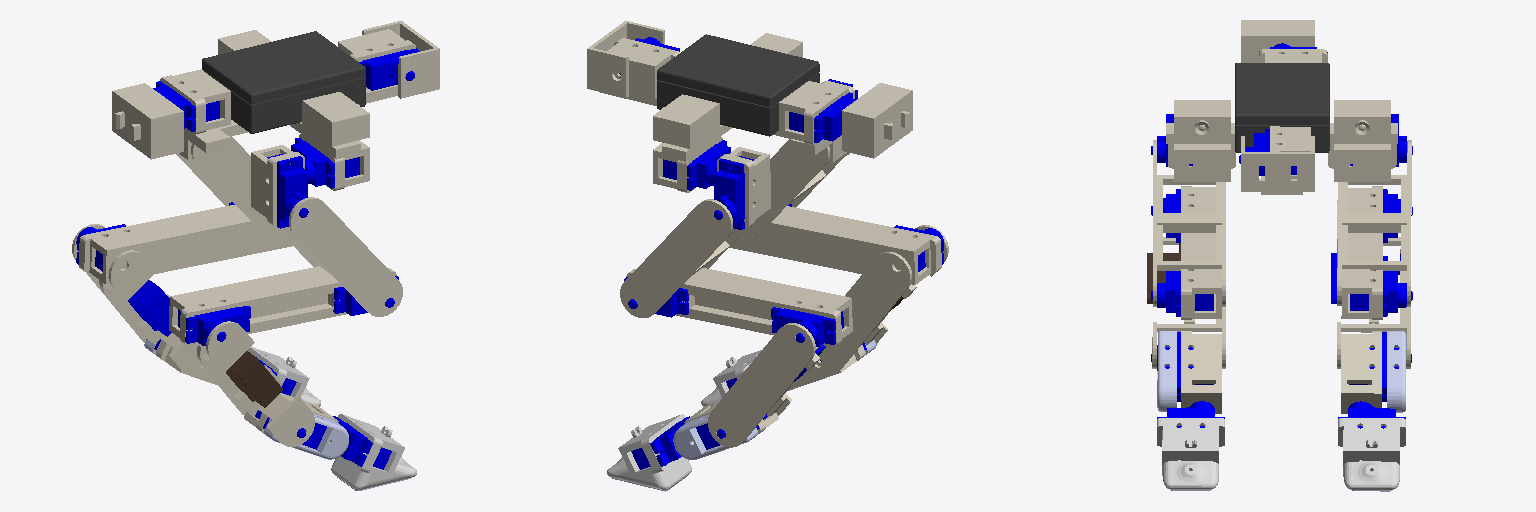
--- Facts derived from the render (not from the file) ---
Views: 3 orthographic renders of the robot side by side, from view 1: azimuth 30°, elevation 25°; view 2: azimuth 150°, elevation 25°; view 3: azimuth 270°, elevation 25°.
Model morphlynx with 42 links and 41 joints (14 continuous, 27 fixed), rooted at base_link, posed every joint at zero.
Links seen in each view (by area): view 1: CONTROL-BOX, L-LINK-ANKLE-TIBIA, R-LINK-ANKLE-TIBIA, R-LINK-HIP-ANKLE, R-LINK-TIBIA-FOOT, REAR-CAPLING, L-LINK-TIBIA-FOOT, L-LINK-HIP-ANKLE, R-FOOT, CAMERA-R, FRONT-CAPLING, SC-REAR-CAPLING (+16 smaller); view 2: CONTROL-BOX, R-LINK-ANKLE-TIBIA, L-LINK-ANKLE-TIBIA, L-LINK-HIP-ANKLE, L-LINK-TIBIA-FOOT, R-LINK-TIBIA-FOOT, REAR-CAPLING, R-LINK-HIP-ANKLE, L-FOOT, FRONT-CAPLING, CAMERA-L, SC-REAR-CAPLING (+14 smaller); view 3: CONTROL-BOX, L-FOOT, R-FOOT, L-LINK-HIP-ANKLE, R-LINK-HIP-ANKLE, R-LINK-ANKLE-TIBIA, L-LINK-ANKLE-TIBIA, L-SC2-FOOT-PITCH, R-SC2-FOOT-PITCH, FRONT-CAPLING, L-SC-HIP-ROLL, R-SC-HIP-ROLL (+15 smaller).
Boxes of the visible links, box(x1,y1,x2,y2) form: CONTROL-BOX: box(202, 31, 365, 133); L-LINK-ANKLE-TIBIA: box(79, 205, 292, 283); R-LINK-ANKLE-TIBIA: box(169, 266, 396, 345); R-LINK-HIP-ANKLE: box(275, 197, 402, 316); R-LINK-TIBIA-FOOT: box(178, 321, 314, 446); REAR-CAPLING: box(112, 83, 183, 159); L-LINK-TIBIA-FOOT: box(72, 224, 206, 375); L-LINK-HIP-ANKLE: box(176, 136, 290, 245); R-FOOT: box(331, 414, 416, 489); CAMERA-R: box(302, 92, 369, 146); FRONT-CAPLING: box(362, 21, 439, 98); SC-REAR-CAPLING: box(160, 69, 230, 134); CONTROL-BOX: box(657, 34, 819, 136); R-LINK-ANKLE-TIBIA: box(729, 206, 941, 284); L-LINK-ANKLE-TIBIA: box(626, 268, 852, 346); L-LINK-HIP-ANKLE: box(620, 199, 745, 317); L-LINK-TIBIA-FOOT: box(708, 323, 837, 447); R-LINK-TIBIA-FOOT: box(811, 225, 948, 375); REAR-CAPLING: box(842, 83, 912, 158); R-LINK-HIP-ANKLE: box(732, 139, 844, 246); L-FOOT: box(607, 414, 691, 489); FRONT-CAPLING: box(587, 21, 664, 97); CAMERA-L: box(653, 94, 719, 148); SC-REAR-CAPLING: box(779, 81, 848, 145); CONTROL-BOX: box(1235, 63, 1329, 152); L-FOOT: box(1338, 418, 1405, 489); R-FOOT: box(1157, 418, 1224, 489); L-LINK-HIP-ANKLE: box(1337, 140, 1411, 306); R-LINK-HIP-ANKLE: box(1153, 140, 1225, 306); R-LINK-ANKLE-TIBIA: box(1181, 186, 1221, 319); L-LINK-ANKLE-TIBIA: box(1341, 186, 1382, 319); L-SC2-FOOT-PITCH: box(1341, 331, 1381, 413); R-SC2-FOOT-PITCH: box(1181, 331, 1221, 413); FRONT-CAPLING: box(1241, 136, 1314, 191); L-SC-HIP-ROLL: box(1328, 144, 1396, 181); R-SC-HIP-ROLL: box(1168, 144, 1235, 181).
Size in the robot's own frame: 0.1541 by 0.1265 by 0.1939 metres.
42 mesh visuals loaded from 42 distinct referenced files (42 OBJ).

URDF robot description (morphlynx):
<?xml version="1.0" encoding="utf-8"?>
<!-- This URDF was automatically created by SolidWorks to URDF Exporter! Originally created by Stephen Brawner ([email redacted]) 
     Commit Version: 1.6.0-1-g15f4949  Build Version: 1.6.7594.29634
     For more information, please see http://wiki.ros.org/sw_urdf_exporter -->
<robot
  name="morphlynx">
  <link
    name="base_link">
    <inertial>
      <origin
        xyz="0.000276598725650778 -0.000310224911284039 0.00148418621995441"
        rpy="0 0 0" />
      <mass
        value="0.0191012536604614" />
      <inertia
        ixx="8.08993467976212E-06"
        ixy="4.57728253329319E-09"
        ixz="-1.21803359504819E-08"
        iyy="1.71771116325382E-05"
        iyz="3.35403185901994E-10"
        izz="2.51810305583357E-05" />
    </inertial>
    <visual>
      <origin
        xyz="0 0 0"
        rpy="0 0 0" />
      <geometry>
        <mesh
          filename="meshes/base_link.obj" />
      </geometry>
      <material
        name="">
        <color
          rgba="0.843137254901961 0.815686274509804 0.752941176470588 1" />
      </material>
    </visual>
    <collision>
      <origin
        xyz="0 0 0"
        rpy="0 0 0" />
      <geometry>
        <mesh
          filename="meshes/base_link.obj" />
      </geometry>
    </collision>
  </link>
  <link
    name="SC-FRONT-CAPLING">
    <inertial>
      <origin
        xyz="-4.62149394982042E-05 1.24145034530176E-11 0.00584718627496306"
        rpy="0 0 0" />
      <mass
        value="0.00388168562397068" />
      <inertia
        ixx="3.09363338665308E-07"
        ixy="-1.57576096613376E-16"
        ixz="-1.22062502891151E-09"
        iyy="5.16127047137718E-07"
        iyz="-6.18283292074338E-17"
        izz="4.87639162474153E-07" />
    </inertial>
    <visual>
      <origin
        xyz="0 0 0"
        rpy="0 0 0" />
      <geometry>
        <mesh
          filename="meshes/SC-FRONT-CAPLING.obj" />
      </geometry>
      <material
        name="">
        <color
          rgba="0.843137254901961 0.815686274509804 0.752941176470588 1" />
      </material>
    </visual>
    <collision>
      <origin
        xyz="0 0 0"
        rpy="0 0 0" />
      <geometry>
        <mesh
          filename="meshes/SC-FRONT-CAPLING.obj" />
      </geometry>
    </collision>
  </link>
  <joint
    name="SC-FRONT-CAPLING"
    type="fixed">
    <origin
      xyz="0.0473016965914241 0.0101948709329004 0.0122706259703034"
      rpy="1.57079632893312 0 0" />
    <parent
      link="base_link" />
    <child
      link="SC-FRONT-CAPLING" />
    <axis
      xyz="0 0 0" />
  </joint>
  <link
    name="SERVO-FRONT-CAPLING-PITCH">
    <inertial>
      <origin
        xyz="-0.000384508499174051 0.0126027787718828 1.09534353809337E-10"
        rpy="0 0 0" />
      <mass
        value="0.00691519223665197" />
      <inertia
        ixx="4.42030047813646E-07"
        ixy="3.31941458815829E-08"
        ixz="-9.76955634209418E-14"
        iyy="4.05343652024244E-07"
        iyz="-6.61707472782017E-15"
        izz="6.84998310264265E-07" />
    </inertial>
    <visual>
      <origin
        xyz="0 0 0"
        rpy="0 0 0" />
      <geometry>
        <mesh
          filename="meshes/SERVO-FRONT-CAPLING-PITCH.obj" />
      </geometry>
      <material
        name="">
        <color
          rgba="0 0 1 1" />
      </material>
    </visual>
    <collision>
      <origin
        xyz="0 0 0"
        rpy="0 0 0" />
      <geometry>
        <mesh
          filename="meshes/SERVO-FRONT-CAPLING-PITCH.obj" />
      </geometry>
    </collision>
  </link>
  <joint
    name="SERVO-FRONT-CAPLING-PITCH"
    type="fixed">
    <origin
      xyz="0 0 0.000999999999999342"
      rpy="1.57079632893312 0 -3.14159265284031" />
    <parent
      link="SC-FRONT-CAPLING" />
    <child
      link="SERVO-FRONT-CAPLING-PITCH" />
    <axis
      xyz="0 0 0" />
  </joint>
  <link
    name="FRONT-CAPLING">
    <inertial>
      <origin
        xyz="0.00932469362706763 -0.0114999999999999 -5.34711164235091E-14"
        rpy="0 0 0" />
      <mass
        value="0.00270228717508013" />
      <inertia
        ixx="6.13949611396249E-07"
        ixy="-1.94829705237611E-22"
        ixz="-4.53642987309235E-23"
        iyy="2.03802701162908E-07"
        iyz="-1.77107123965846E-22"
        izz="6.27041981381177E-07" />
    </inertial>
    <visual>
      <origin
        xyz="0 0 0"
        rpy="0 0 0" />
      <geometry>
        <mesh
          filename="meshes/FRONT-CAPLING.obj" />
      </geometry>
      <material
        name="">
        <color
          rgba="0.843137254901961 0.815686274509804 0.752941176470588 1" />
      </material>
    </visual>
    <collision>
      <origin
        xyz="0 0 0"
        rpy="0 0 0" />
      <geometry>
        <mesh
          filename="meshes/FRONT-CAPLING.obj" />
      </geometry>
    </collision>
  </link>
  <joint
    name="CAPLING-F-PITCH"
    type="continuous">
    <origin
      xyz="-0.00525000000000003 0 0"
      rpy="0 0.00182717944915082 -3.14159265358979" />
    <parent
      link="SERVO-FRONT-CAPLING-PITCH" />
    <child
      link="FRONT-CAPLING" />
    <axis
      xyz="0 1 0" />
    <limit
      lower="-6.28"
      upper="6.28"
      effort="80"
      velocity="15" />
  </joint>
  <link
    name="SC-REAR-CAPLING">
    <inertial>
      <origin
        xyz="-4.62080969305736E-05 -5.34502997417974E-14 0.00584718632905018"
        rpy="0 0 0" />
      <mass
        value="0.00388168562397068" />
      <inertia
        ixx="3.09363335808726E-07"
        ixy="6.85008944770476E-25"
        ixz="-1.22041640500412E-09"
        iyy="5.16127047137719E-07"
        iyz="-8.91287110025887E-23"
        izz="4.87639165330736E-07" />
    </inertial>
    <visual>
      <origin
        xyz="0 0 0"
        rpy="0 0 0" />
      <geometry>
        <mesh
          filename="meshes/SC-REAR-CAPLING.obj" />
      </geometry>
      <material
        name="">
        <color
          rgba="0.843137254901961 0.815686274509804 0.752941176470588 1" />
      </material>
    </visual>
    <collision>
      <origin
        xyz="0 0 0"
        rpy="0 0 0" />
      <geometry>
        <mesh
          filename="meshes/SC-REAR-CAPLING.obj" />
      </geometry>
    </collision>
  </link>
  <joint
    name="SC-REAR-CAPLING"
    type="fixed">
    <origin
      xyz="-0.0371983034085759 0.00494487093290037 0.0122706259703034"
      rpy="1.5707963267949 0 -1.57079632679489" />
    <parent
      link="base_link" />
    <child
      link="SC-REAR-CAPLING" />
    <axis
      xyz="0 0 0" />
  </joint>
  <link
    name="SERVO-REAR-CAPLING-ROLL">
    <inertial>
      <origin
        xyz="-0.000384508493883707 0.0136027787675984 1.12530054718896E-10"
        rpy="0 0 0" />
      <mass
        value="0.00691519223468016" />
      <inertia
        ixx="4.42030047439535E-07"
        ixy="3.31941455257412E-08"
        ixz="-9.74632742485599E-14"
        iyy="4.05343651743622E-07"
        iyz="-7.02790507590519E-15"
        izz="6.84998309711999E-07" />
    </inertial>
    <visual>
      <origin
        xyz="0 0 0"
        rpy="0 0 0" />
      <geometry>
        <mesh
          filename="meshes/SERVO-REAR-CAPLING-ROLL.obj" />
      </geometry>
      <material
        name="">
        <color
          rgba="0 0 1 1" />
      </material>
    </visual>
    <collision>
      <origin
        xyz="0 0 0"
        rpy="0 0 0" />
      <geometry>
        <mesh
          filename="meshes/SERVO-REAR-CAPLING-ROLL.obj" />
      </geometry>
    </collision>
  </link>
  <joint
    name="SERVO-REAR-CAPLING-ROLL"
    type="fixed">
    <origin
      xyz="0 0 0"
      rpy="1.5707963267949 0 3.14159265358979" />
    <parent
      link="SC-REAR-CAPLING" />
    <child
      link="SERVO-REAR-CAPLING-ROLL" />
    <axis
      xyz="0 0 0" />
  </joint>
  <link
    name="REAR-CAPLING">
    <inertial>
      <origin
        xyz="-0.0020249449152616 -5.34607080826532E-14 -0.00801176510310647"
        rpy="0 0 0" />
      <mass
        value="0.00787132522957532" />
      <inertia
        ixx="5.83100326597713E-07"
        ixy="1.78102325640324E-23"
        ixz="1.07505724926403E-09"
        iyy="1.18904229209336E-06"
        iyz="1.8032537353656E-22"
        izz="1.26739941933807E-06" />
    </inertial>
    <visual>
      <origin
        xyz="0 0 0"
        rpy="0 0 0" />
      <geometry>
        <mesh
          filename="meshes/REAR-CAPLING.obj" />
      </geometry>
      <material
        name="">
        <color
          rgba="0.843137254901961 0.815686274509804 0.752941176470588 1" />
      </material>
    </visual>
    <collision>
      <origin
        xyz="0 0 0"
        rpy="0 0 0" />
      <geometry>
        <mesh
          filename="meshes/REAR-CAPLING.obj" />
      </geometry>
    </collision>
  </link>
  <joint
    name="CAPLING-REAR-ROLL"
    type="continuous">
    <origin
      xyz="-0.00525000000000003 0.0277634565073713 0"
      rpy="1.5707963267949 0 0" />
    <parent
      link="SERVO-REAR-CAPLING-ROLL" />
    <child
      link="REAR-CAPLING" />
    <axis
      xyz="0 0 1" />
    <limit
      lower="-6.28"
      upper="6.28"
      effort="80"
      velocity="15" />
  </joint>
  <link
    name="CAMERA-R">
    <inertial>
      <origin
        xyz="-1.45716771982052E-16 -0.00225514045541008 0.0054882376767566"
        rpy="0 0 0" />
      <mass
        value="0.00441438219440412" />
      <inertia
        ixx="2.33951250927226E-07"
        ixy="5.26681405648998E-23"
        ixz="2.02132669644039E-24"
        iyy="4.66886059749415E-07"
        iyz="-3.66679901899329E-10"
        izz="3.63002720224577E-07" />
    </inertial>
    <visual>
      <origin
        xyz="0 0 0"
        rpy="0 0 0" />
      <geometry>
        <mesh
          filename="meshes/CAMERA-R.obj" />
      </geometry>
      <material
        name="">
        <color
          rgba="0.843137254901961 0.815686274509804 0.752941176470588 1" />
      </material>
    </visual>
    <collision>
      <origin
        xyz="0 0 0"
        rpy="0 0 0" />
      <geometry>
        <mesh
          filename="meshes/CAMERA-R.obj" />
      </geometry>
    </collision>
  </link>
  <joint
    name="CAMERA-R"
    type="fixed">
    <origin
      xyz="0.0101016965914242 -0.0383051290670996 0.0122706259703034"
      rpy="1.5707963267949 0 -1.5707963267949" />
    <parent
      link="base_link" />
    <child
      link="CAMERA-R" />
    <axis
      xyz="0 0 0" />
  </joint>
  <link
    name="CAMERA-L">
    <inertial>
      <origin
        xyz="2.77555756156289E-17 -0.0022551402312316 0.00548824185136425"
        rpy="0 0 0" />
      <mass
        value="0.00441437949542467" />
      <inertia
        ixx="2.33951115754024E-07"
        ixy="8.21622992812437E-23"
        ixz="6.04851336686903E-23"
        iyy="4.66885921588399E-07"
        iyz="-3.66672030530702E-10"
        izz="3.630027148791E-07" />
    </inertial>
    <visual>
      <origin
        xyz="0 0 0"
        rpy="0 0 0" />
      <geometry>
        <mesh
          filename="meshes/CAMERA-L.obj" />
      </geometry>
      <material
        name="">
        <color
          rgba="0.843137254901961 0.815686274509804 0.752941176470588 1" />
      </material>
    </visual>
    <collision>
      <origin
        xyz="0 0 0"
        rpy="0 0 0" />
      <geometry>
        <mesh
          filename="meshes/CAMERA-L.obj" />
      </geometry>
    </collision>
  </link>
  <joint
    name="CAMERA-L"
    type="fixed">
    <origin
      xyz="0.0101016965914243 0.0376948709329006 0.0122706259703034"
      rpy="1.5707963267949 0 -1.5707963267949" />
    <parent
      link="base_link" />
    <child
      link="CAMERA-L" />
    <axis
      xyz="0 0 0" />
  </joint>
  <link
    name="CONTROL-BOX">
    <inertial>
      <origin
        xyz="1.19348975147204E-14 7.63278329429795E-17 0.00999094259168056"
        rpy="0 0 0" />
      <mass
        value="0.0537914675196552" />
      <inertia
        ixx="1.08257277154903E-05"
        ixy="-2.8556778905388E-21"
        ixz="-7.47771273747937E-22"
        iyy="1.78698396830791E-05"
        iyz="-8.12291361527073E-22"
        izz="2.51183318462632E-05" />
    </inertial>
    <visual>
      <origin
        xyz="0 0 0"
        rpy="0 0 0" />
      <geometry>
        <mesh
          filename="meshes/CONTROL-BOX.obj" />
      </geometry>
      <material
        name="">
        <color
          rgba="0.298039215686275 0.298039215686275 0.298039215686275 1" />
      </material>
    </visual>
    <collision>
      <origin
        xyz="0 0 0"
        rpy="0 0 0" />
      <geometry>
        <mesh
          filename="meshes/CONTROL-BOX.obj" />
      </geometry>
    </collision>
  </link>
  <joint
    name="CONTROL-BOX"
    type="fixed">
    <origin
      xyz="-0.00194830340857396 -0.000305129067099431 0.00397062597030342"
      rpy="0 0 3.14159265358979" />
    <parent
      link="base_link" />
    <child
      link="CONTROL-BOX" />
    <axis
      xyz="0 0 0" />
  </joint>
  <link
    name="R-SC-HIP-ROLL">
    <inertial>
      <origin
        xyz="-4.62080969304054E-05 -5.34594070400463E-14 0.00584718632905018"
        rpy="0 0 0" />
      <mass
        value="0.00388168562397067" />
      <inertia
        ixx="3.09363335808725E-07"
        ixy="-2.34712498811922E-23"
        ixz="-1.22041640500414E-09"
        iyy="5.16127047137717E-07"
        iyz="1.58715280033612E-23"
        izz="4.87639165330735E-07" />
    </inertial>
    <visual>
      <origin
        xyz="0 0 0"
        rpy="0 0 0" />
      <geometry>
        <mesh
          filename="meshes/R-SC-HIP-ROLL.obj" />
      </geometry>
      <material
        name="">
        <color
          rgba="0.843137254901961 0.815686274509804 0.752941176470588 1" />
      </material>
    </visual>
    <collision>
      <origin
        xyz="0 0 0"
        rpy="0 0 0" />
      <geometry>
        <mesh
          filename="meshes/R-SC-HIP-ROLL.obj" />
      </geometry>
    </collision>
  </link>
  <joint
    name="R-SC-HIP-ROLL"
    type="fixed">
    <origin
      xyz="0.0101016965914242 -0.0383051290670996 -0.00932937402969657"
      rpy="1.5707963267949 0 -1.5707963267949" />
    <parent
      link="base_link" />
    <child
      link="R-SC-HIP-ROLL" />
    <axis
      xyz="0 0 0" />
  </joint>
  <link
    name="R-SERVO-HIP-ROLL">
    <inertial>
      <origin
        xyz="-0.000384508500723428 0.0136027787899434 1.36590211146856E-10"
        rpy="0 0 0" />
      <mass
        value="0.00691519225368301" />
      <inertia
        ixx="4.42030049124117E-07"
        ixy="3.31941459283633E-08"
        ixz="-9.69608556129376E-14"
        iyy="4.05343652312809E-07"
        iyz="-8.46236558135027E-15"
        izz="6.84998311194733E-07" />
    </inertial>
    <visual>
      <origin
        xyz="0 0 0"
        rpy="0 0 0" />
      <geometry>
        <mesh
          filename="meshes/R-SERVO-HIP-ROLL.obj" />
      </geometry>
      <material
        name="">
        <color
          rgba="0 0 1 1" />
      </material>
    </visual>
    <collision>
      <origin
        xyz="0 0 0"
        rpy="0 0 0" />
      <geometry>
        <mesh
          filename="meshes/R-SERVO-HIP-ROLL.obj" />
      </geometry>
    </collision>
  </link>
  <joint
    name="R-SERVO-HIP-ROLL"
    type="fixed">
    <origin
      xyz="0 0 0"
      rpy="1.5707963267949 0 3.14159265358979" />
    <parent
      link="R-SC-HIP-ROLL" />
    <child
      link="R-SERVO-HIP-ROLL" />
    <axis
      xyz="0 0 0" />
  </joint>
  <link
    name="R-SC-HIP-PITCH">
    <inertial>
      <origin
        xyz="0.00545379190312563 -0.00835938318636968 -0.00595281367095868"
        rpy="0 0 0" />
      <mass
        value="0.00388168562397068" />
      <inertia
        ixx="3.09363335808726E-07"
        ixy="-1.40739094359186E-20"
        ixz="-1.22041640500274E-09"
        iyy="5.16127047137718E-07"
        iyz="-5.73904891354935E-23"
        izz="4.87639165330736E-07" />
    </inertial>
    <visual>
      <origin
        xyz="0 0 0"
        rpy="0 0 0" />
      <geometry>
        <mesh
          filename="meshes/R-SC-HIP-PITCH.obj" />
      </geometry>
      <material
        name="">
        <color
          rgba="0.843137254901961 0.815686274509804 0.752941176470588 1" />
      </material>
    </visual>
    <collision>
      <origin
        xyz="0 0 0"
        rpy="0 0 0" />
      <geometry>
        <mesh
          filename="meshes/R-SC-HIP-PITCH.obj" />
      </geometry>
    </collision>
  </link>
  <joint
    name="R-HIP-ROLL"
    type="continuous">
    <origin
      xyz="-0.00525000000000002 0.0287406168136401 0"
      rpy="0 1.57037041570975 3.14159265343196" />
    <parent
      link="R-SERVO-HIP-ROLL" />
    <child
      link="R-SC-HIP-PITCH" />
    <axis
      xyz="0 1 0" />
    <limit
      lower="-6.28"
      upper="6.28"
      effort="80"
      velocity="15" />
  </joint>
  <link
    name="R-SERVO-HIP-PITCH">
    <inertial>
      <origin
        xyz="-0.000384508489833684 0.012602778745886 1.11342046693608E-10"
        rpy="0 0 0" />
      <mass
        value="0.00691519221509346" />
      <inertia
        ixx="4.42030045808581E-07"
        ixy="3.31941453056553E-08"
        ixz="-9.75840787628773E-14"
        iyy="4.05343651348611E-07"
        iyz="-6.68080359288394E-15"
        izz="6.84998308501766E-07" />
    </inertial>
    <visual>
      <origin
        xyz="0 0 0"
        rpy="0 0 0" />
      <geometry>
        <mesh
          filename="meshes/R-SERVO-HIP-PITCH.obj" />
      </geometry>
      <material
        name="">
        <color
          rgba="0 0 1 1" />
      </material>
    </visual>
    <collision>
      <origin
        xyz="0 0 0"
        rpy="0 0 0" />
      <geometry>
        <mesh
          filename="meshes/R-SERVO-HIP-PITCH.obj" />
      </geometry>
    </collision>
  </link>
  <joint
    name="R-SERVO-HIP-PITCH"
    type="fixed">
    <origin
      xyz="0.00550000000000046 -0.00835938318635776 -0.0108"
      rpy="1.5707963267949 0 -3.14159265358979" />
    <parent
      link="R-SC-HIP-PITCH" />
    <child
      link="R-SERVO-HIP-PITCH" />
    <axis
      xyz="0 0 0" />
  </joint>
  <link
    name="R-LINK-HIP-ANKLE">
    <inertial>
      <origin
        xyz="0.035500000000035 -0.0115 -4.44783099240453E-14"
        rpy="0 0 0" />
      <mass
        value="0.0128808114115962" />
      <inertia
        ixx="2.7990680763248E-06"
        ixy="1.10635406928967E-23"
        ixz="1.05879118406788E-22"
        iyy="4.16552090795131E-06"
        iyz="3.58582795541737E-22"
        izz="6.28781585284836E-06" />
    </inertial>
    <visual>
      <origin
        xyz="0 0 0"
        rpy="0 0 0" />
      <geometry>
        <mesh
          filename="meshes/R-LINK-HIP-ANKLE.obj" />
      </geometry>
      <material
        name="">
        <color
          rgba="0.843137254901961 0.815686274509804 0.752941176470588 1" />
      </material>
    </visual>
    <collision>
      <origin
        xyz="0 0 0"
        rpy="0 0 0" />
      <geometry>
        <mesh
          filename="meshes/R-LINK-HIP-ANKLE.obj" />
      </geometry>
    </collision>
  </link>
  <joint
    name="R-HIP-PITCH"
    type="continuous">
    <origin
      xyz="-0.00525000000000002 0 0"
      rpy="0 -0.682710826909779 -3.14159265358979" />
    <parent
      link="R-SERVO-HIP-PITCH" />
    <child
      link="R-LINK-HIP-ANKLE" />
    <axis
      xyz="0 1 0" />
    <limit
      lower="-6.28"
      upper="6.28"
      effort="80"
      velocity="15" />
  </joint>
  <link
    name="R-SERVO-ANKLE-PITCH">
    <inertial>
      <origin
        xyz="0.00486549150549181 0.0126027787614641 9.52491696626367E-11"
        rpy="0 0 0" />
      <mass
        value="0.00691519222711768" />
      <inertia
        ixx="4.42030047036578E-07"
        ixy="3.31941456210219E-08"
        ixz="-9.79984194611426E-14"
        iyy="4.05343651695148E-07"
        iyz="-5.81399200241297E-15"
        izz="6.84998309564881E-07" />
    </inertial>
    <visual>
      <origin
        xyz="0 0 0"
        rpy="0 0 0" />
      <geometry>
        <mesh
          filename="meshes/R-SERVO-ANKLE-PITCH.obj" />
      </geometry>
      <material
        name="">
        <color
          rgba="0 0 1 1" />
      </material>
    </visual>
    <collision>
      <origin
        xyz="0 0 0"
        rpy="0 0 0" />
      <geometry>
        <mesh
          filename="meshes/R-SERVO-ANKLE-PITCH.obj" />
      </geometry>
    </collision>
  </link>
  <joint
    name="R-ANKLE-PITCH"
    type="continuous">
    <origin
      xyz="0.071 0 0"
      rpy="0 0.847129999047614 3.14159265358979" />
    <parent
      link="R-LINK-HIP-ANKLE" />
    <child
      link="R-SERVO-ANKLE-PITCH" />
    <axis
      xyz="0 1 0" />
    <limit
      lower="-6.28"
      upper="6.28"
      effort="80"
      velocity="15" />
  </joint>
  <link
    name="R-LINK-ANKLE-TIBIA">
    <inertial>
      <origin
        xyz="0.0385000456796759 1.72533734521529E-09 0.00599839401111354"
        rpy="0 0 0" />
      <mass
        value="0.0169515393948695" />
      <inertia
        ixx="1.27646378050448E-06"
        ixy="2.20435857879973E-14"
        ixz="1.01851493716066E-10"
        iyy="1.4737629444282E-05"
        iyz="-2.57236311597374E-14"
        izz="1.46513437089113E-05" />
    </inertial>
    <visual>
      <origin
        xyz="0 0 0"
        rpy="0 0 0" />
      <geometry>
        <mesh
          filename="meshes/R-LINK-ANKLE-TIBIA.obj" />
      </geometry>
      <material
        name="">
        <color
          rgba="0.843137254901961 0.815686274509804 0.752941176470588 1" />
      </material>
    </visual>
    <collision>
      <origin
        xyz="0 0 0"
        rpy="0 0 0" />
      <geometry>
        <mesh
          filename="meshes/R-LINK-ANKLE-TIBIA.obj" />
      </geometry>
    </collision>
  </link>
  <joint
    name="R-LINK-ANKLE-TIBIA"
    type="fixed">
    <origin
      xyz="0.08225 -0.00100000000000051 0"
      rpy="1.57079662491445 0 3.14158503845648" />
    <parent
      link="R-SERVO-ANKLE-PITCH" />
    <child
      link="R-LINK-ANKLE-TIBIA" />
    <axis
      xyz="0 0 0" />
  </joint>
  <link
    name="R-SERVO-TIBIA-PITCH">
    <inertial>
      <origin
        xyz="-0.000384412539514517 0.0126027817185584 -3.67305397208639E-09"
        rpy="0 0 0" />
      <mass
        value="0.0069151922515927" />
      <inertia
        ixx="4.42030554832196E-07"
        ixy="3.31938672607931E-08"
        ixz="-1.08793025558777E-13"
        iyy="4.05343147272634E-07"
        iyz="7.82553027588661E-14"
        izz="6.84998311941077E-07" />
    </inertial>
    <visual>
      <origin
        xyz="0 0 0"
        rpy="0 0 0" />
      <geometry>
        <mesh
          filename="meshes/R-SERVO-TIBIA-PITCH.obj" />
      </geometry>
      <material
        name="">
        <color
          rgba="0 0 1 1" />
      </material>
    </visual>
    <collision>
      <origin
        xyz="0 0 0"
        rpy="0 0 0" />
      <geometry>
        <mesh
          filename="meshes/R-SERVO-TIBIA-PITCH.obj" />
      </geometry>
    </collision>
  </link>
  <joint
    name="R-SERVO-TIBIA-PITCH"
    type="fixed">
    <origin
      xyz="0 0 0.000999999999970969"
      rpy="1.5707963267949 0 0" />
    <parent
      link="R-LINK-ANKLE-TIBIA" />
    <child
      link="R-SERVO-TIBIA-PITCH" />
    <axis
      xyz="0 0 0" />
  </joint>
  <link
    name="R-LINK-TIBIA-FOOT">
    <inertial>
      <origin
        xyz="-0.036440334722229 -0.00658934273175115 1.75109626689984E-05"
        rpy="0 0 0" />
      <mass
        value="0.00862384221571942" />
      <inertia
        ixx="1.56482853918435E-06"
        ixy="-9.25199440592379E-09"
        ixz="2.38005169919624E-09"
        iyy="4.04460133877994E-06"
        iyz="6.61009493684119E-10"
        izz="5.13010743226958E-06" />
    </inertial>
    <visual>
      <origin
        xyz="0 0 0"
        rpy="0 0 0" />
      <geometry>
        <mesh
          filename="meshes/R-LINK-TIBIA-FOOT.obj" />
      </geometry>
      <material
        name="">
        <color
          rgba="0.843137254901961 0.815686274509804 0.752941176470588 1" />
      </material>
    </visual>
    <collision>
      <origin
        xyz="0 0 0"
        rpy="0 0 0" />
      <geometry>
        <mesh
          filename="meshes/R-LINK-TIBIA-FOOT.obj" />
      </geometry>
    </collision>
  </link>
  <joint
    name="R-TIBIA-PITCH"
    type="continuous">
    <origin
      xyz="-0.00524999999984774 0 0"
      rpy="0 0.905588919817454 3.14158541847693" />
    <parent
      link="R-SERVO-TIBIA-PITCH" />
    <child
      link="R-LINK-TIBIA-FOOT" />
    <axis
      xyz="0 1 0" />
    <limit
      lower="-6.28"
      upper="6.28"
      effort="80"
      velocity="15" />
  </joint>
  <link
    name="R-SUCTION">
    <inertial>
      <origin
        xyz="0.00177636755802124 -0.004257095358309 0.0181015800168966"
        rpy="0 0 0" />
      <mass
        value="0.00729393817608512" />
      <inertia
        ixx="6.5311296097796E-07"
        ixy="8.63491955921098E-08"
        ixz="-1.27827788436877E-08"
        iyy="4.82207015457807E-07"
        iyz="3.06341634635897E-08"
        izz="4.12017302214089E-07" />
    </inertial>
    <visual>
      <origin
        xyz="0 0 0"
        rpy="0 0 0" />
      <geometry>
        <mesh
          filename="meshes/R-SUCTION.obj" />
      </geometry>
      <material
        name="">
        <color
          rgba="0.317647058823529 0.247058823529412 0.207843137254902 1" />
      </material>
    </visual>
    <collision>
      <origin
        xyz="0 0 0"
        rpy="0 0 0" />
      <geometry>
        <mesh
          filename="meshes/R-SUCTION.obj" />
      </geometry>
    </collision>
  </link>
  <joint
    name="R-SUCTION"
    type="fixed">
    <origin
      xyz="-0.0275 0 0"
      rpy="-1.5707963267949 1.17548937506612 -3.14159265358979" />
    <parent
      link="R-LINK-TIBIA-FOOT" />
    <child
      link="R-SUCTION" />
    <axis
      xyz="0.222568073751166 -0.0527290822480012 -0.973490162473139" />
  </joint>
  <link
    name="R-SERVO-FOOT-PITCH">
    <inertial>
      <origin
        xyz="0.00486549148055718 0.0126027788121196 7.95549737198087E-11"
        rpy="0 0 0" />
      <mass
        value="0.00691519226968711" />
      <inertia
        ixx="4.42030050887853E-07"
        ixy="3.31941471160505E-08"
        ixz="-9.84174553951765E-14"
        iyy="4.0534365342949E-07"
        iyz="-4.87842838613591E-15"
        izz="6.84998313417764E-07" />
    </inertial>
    <visual>
      <origin
        xyz="0 0 0"
        rpy="0 0 0" />
      <geometry>
        <mesh
          filename="meshes/R-SERVO-FOOT-PITCH.obj" />
      </geometry>
      <material
        name="">
        <color
          rgba="0 0 1 1" />
      </material>
    </visual>
    <collision>
      <origin
        xyz="0 0 0"
        rpy="0 0 0" />
      <geometry>
        <mesh
          filename="meshes/R-SERVO-FOOT-PITCH.obj" />
      </geometry>
    </collision>
  </link>
  <joint
    name="R-FOOT-PITCH"
    type="continuous">
    <origin
      xyz="-0.0709999999999994 0 0"
      rpy="0 0.434750190990365 -3.14159265358979" />
    <parent
      link="R-LINK-TIBIA-FOOT" />
    <child
      link="R-SERVO-FOOT-PITCH" />
    <axis
      xyz="0 1 0" />
    <limit
      lower="-6.28"
      upper="6.28"
      effort="80"
      velocity="15" />
  </joint>
  <link
    name="R-SC-FOOT-PITCH">
    <inertial>
      <origin
        xyz="-0.00639750117186853 -1.79568832026078E-10 0.0117823559031306"
        rpy="0 0 0" />
      <mass
        value="0.00307410333491138" />
      <inertia
        ixx="1.08655905725049E-07"
        ixy="8.15339711343255E-15"
        ixz="1.20338458275506E-09"
        iyy="5.74904927195726E-07"
        iyz="2.61033209565254E-16"
        izz="6.4137099021085E-07" />
    </inertial>
    <visual>
      <origin
        xyz="0 0 0"
        rpy="0 0 0" />
      <geometry>
        <mesh
          filename="meshes/R-SC-FOOT-PITCH.obj" />
      </geometry>
      <material
        name="">
        <color
          rgba="0.792156862745098 0.819607843137255 0.933333333333333 1" />
      </material>
    </visual>
    <collision>
      <origin
        xyz="0 0 0"
        rpy="0 0 0" />
      <geometry>
        <mesh
          filename="meshes/R-SC-FOOT-PITCH.obj" />
      </geometry>
    </collision>
  </link>
  <joint
    name="R-SC-FOOT-PITCH"
    type="fixed">
    <origin
      xyz="0.00525000000000084 0.0101259142521418 0"
      rpy="1.5707963267949 0 -3.14159265358979" />
    <parent
      link="R-SERVO-FOOT-PITCH" />
    <child
      link="R-SC-FOOT-PITCH" />
    <axis
      xyz="0 0 0" />
  </joint>
  <link
    name="R-SC2-FOOT-PITCH">
    <inertial>
      <origin
        xyz="-0.00575567248423612 -5.32907051820075E-14 0.00593861362285812"
        rpy="0 0 0" />
      <mass
        value="0.00563001173416683" />
      <inertia
        ixx="4.10832626497924E-07"
        ixy="-1.45583787809333E-22"
        ixz="9.16102996573953E-09"
        iyy="9.89611620976255E-07"
        iyz="6.38350788343657E-23"
        izz="9.41329800063615E-07" />
    </inertial>
    <visual>
      <origin
        xyz="0 0 0"
        rpy="0 0 0" />
      <geometry>
        <mesh
          filename="meshes/R-SC2-FOOT-PITCH.obj" />
      </geometry>
      <material
        name="">
        <color
          rgba="0.843137254901961 0.815686274509804 0.752941176470588 1" />
      </material>
    </visual>
    <collision>
      <origin
        xyz="0 0 0"
        rpy="0 0 0" />
      <geometry>
        <mesh
          filename="meshes/R-SC2-FOOT-PITCH.obj" />
      </geometry>
    </collision>
  </link>
  <joint
    name="R-SC2-FOOT-PITCH"
    type="fixed">
    <origin
      xyz="0.00525000000000038 -0.000999999999999455 0"
      rpy="1.5707963267949 0 -3.14159265358979" />
    <parent
      link="R-SERVO-FOOT-PITCH" />
    <child
      link="R-SC2-FOOT-PITCH" />
    <axis
      xyz="0 0 0" />
  </joint>
  <link
    name="R-SERVO-FOOT-ROLL">
    <inertial>
      <origin
        xyz="0.00486549040658242 -0.010099181121255 1.40124495340288E-10"
        rpy="0 0 0" />
      <mass
        value="0.00691519439197485" />
      <inertia
        ixx="4.42030128446499E-07"
        ixy="3.31941870430998E-08"
        ixz="-1.09860137239912E-13"
        iyy="4.05343732368213E-07"
        iyz="-6.26275678884374E-15"
        izz="6.84998380833103E-07" />
    </inertial>
    <visual>
      <origin
        xyz="0 0 0"
        rpy="0 0 0" />
      <geometry>
        <mesh
          filename="meshes/R-SERVO-FOOT-ROLL.obj" />
      </geometry>
      <material
        name="">
        <color
          rgba="0 0 1 1" />
      </material>
    </visual>
    <collision>
      <origin
        xyz="0 0 0"
        rpy="0 0 0" />
      <geometry>
        <mesh
          filename="meshes/R-SERVO-FOOT-ROLL.obj" />
      </geometry>
    </collision>
  </link>
  <joint
    name="R-FOOT-ROLL"
    type="continuous">
    <origin
      xyz="-0.028348 0 0.0065"
      rpy="0 -1.5706 -1.5708" />
    <parent
      link="R-SC2-FOOT-PITCH" />
    <child
      link="R-SERVO-FOOT-ROLL" />
    <axis
      xyz="0 1 0" />
    <limit
      lower="-6.82"
      upper="6.82"
      effort="80"
      velocity="15" />
  </joint>
  <link
    name="R-FOOT">
    <inertial>
      <origin
        xyz="-1.9595603973601E-05 -0.0044418124757454 0.00135270410961713"
        rpy="0 0 0" />
      <mass
        value="0.00920518301651195" />
      <inertia
        ixx="1.05680978933748E-06"
        ixy="7.90531183375168E-10"
        ixz="-4.19159605553091E-10"
        iyy="1.27882439311496E-06"
        iyz="4.00295489659523E-08"
        izz="1.03165986822853E-06" />
    </inertial>
    <visual>
      <origin
        xyz="0 0 0"
        rpy="0 0 0" />
      <geometry>
        <mesh
          filename="meshes/R-FOOT.obj" />
      </geometry>
      <material
        name="">
        <color
          rgba="0.858823529411765 0.858823529411765 0.858823529411765 0.1" />
      </material>
    </visual>
    <collision>
      <origin
        xyz="0 0 0"
        rpy="0 0 0" />
      <geometry>
        <mesh
          filename="meshes/R-FOOT.obj" />
      </geometry>
    </collision>
  </link>
  <joint
    name="R-FOOT"
    type="fixed">
    <origin
      xyz="0.00525000000000043 -0.0237019612288466 0"
      rpy="-1.5707963267949 0 0" />
    <parent
      link="R-SERVO-FOOT-ROLL" />
    <child
      link="R-FOOT" />
    <axis
      xyz="0 0 0" />
  </joint>
  <link
    name="R-SUCTIONCUP">
    <inertial>
      <origin
        xyz="4.23272528138341E-16 7.91727794435815E-15 0.000500000000065448"
        rpy="0 0 0" />
      <mass
        value="0.000547101592653591" />
      <inertia
        ixx="3.78528310393959E-08"
        ixy="-1.64022929967899E-24"
        ixz="-2.07182894050391E-23"
        iyy="1.64561539334398E-08"
        iyz="2.37248970612133E-23"
        izz="5.42178013740601E-08" />
    </inertial>
    <visual>
      <origin
        xyz="0 0 0"
        rpy="0 0 0" />
      <geometry>
        <mesh
          filename="meshes/R-SUCTIONCUP.obj" />
      </geometry>
      <material
        name="">
        <color
          rgba="0.792156862745098 0.819607843137255 0.933333333333333 1" />
      </material>
    </visual>
    <collision>
      <origin
        xyz="0 0 0"
        rpy="0 0 0" />
      <geometry>
        <mesh
          filename="meshes/R-SUCTIONCUP.obj" />
      </geometry>
    </collision>
  </link>
  <joint
    name="R-SUCTIONCUP"
    type="fixed">
    <origin
      xyz="0 -0.0116636317567742 -0.00454575689710258"
      rpy="1.06026723948583 0 -3.14159265358979" />
    <parent
      link="R-FOOT" />
    <child
      link="R-SUCTIONCUP" />
    <axis
      xyz="0 0 0" />
  </joint>
  <link
    name="L-SC-HIP-ROLL">
    <inertial>
      <origin
        xyz="-4.62080969305806E-05 -5.34568049548323E-14 0.0058471863290502"
        rpy="0 0 0" />
      <mass
        value="0.00388168562397067" />
      <inertia
        ixx="3.09363335808725E-07"
        ixy="-4.79764755280756E-23"
        ixz="-1.22041640500428E-09"
        iyy="5.16127047137718E-07"
        iyz="-3.7016332411748E-23"
        izz="4.87639165330735E-07" />
    </inertial>
    <visual>
      <origin
        xyz="0 0 0"
        rpy="0 0 0" />
      <geometry>
        <mesh
          filename="meshes/L-SC-HIP-ROLL.obj" />
      </geometry>
      <material
        name="">
        <color
          rgba="0.843137254901961 0.815686274509804 0.752941176470588 1" />
      </material>
    </visual>
    <collision>
      <origin
        xyz="0 0 0"
        rpy="0 0 0" />
      <geometry>
        <mesh
          filename="meshes/L-SC-HIP-ROLL.obj" />
      </geometry>
    </collision>
  </link>
  <joint
    name="L-SC-HIP-ROLL"
    type="fixed">
    <origin
      xyz="0.0101016965914241 0.0376948709329004 -0.00932937402969658"
      rpy="1.5707963267949 0 -1.5707963267949" />
    <parent
      link="base_link" />
    <child
      link="L-SC-HIP-ROLL" />
    <axis
      xyz="0 0 0" />
  </joint>
  <link
    name="L-SERVO-HIP-ROLL">
    <inertial>
      <origin
        xyz="-0.000384508494874203 0.013602778762246 8.14990189050568E-11"
        rpy="0 0 0" />
      <mass
        value="0.00691519223021259" />
      <inertia
        ixx="4.42030047026508E-07"
        ixy="3.3194145584039E-08"
        ixz="-9.84214239962041E-14"
        iyy="4.05343651751079E-07"
        iyz="-4.86545093969248E-15"
        izz="6.84998309497845E-07" />
    </inertial>
    <visual>
      <origin
        xyz="0 0 0"
        rpy="0 0 0" />
      <geometry>
        <mesh
          filename="meshes/L-SERVO-HIP-ROLL.obj" />
      </geometry>
      <material
        name="">
        <color
          rgba="0 0 1 1" />
      </material>
    </visual>
    <collision>
      <origin
        xyz="0 0 0"
        rpy="0 0 0" />
      <geometry>
        <mesh
          filename="meshes/L-SERVO-HIP-ROLL.obj" />
      </geometry>
    </collision>
  </link>
  <joint
    name="L-SERVO-HIP-ROLL"
    type="fixed">
    <origin
      xyz="0 0 0"
      rpy="1.5707963267949 0 0" />
    <parent
      link="L-SC-HIP-ROLL" />
    <child
      link="L-SERVO-HIP-ROLL" />
    <axis
      xyz="0 0 0" />
  </joint>
  <link
    name="L-SC-HIP-PITCH">
    <inertial>
      <origin
        xyz="0.00545379190312295 0.00835951767072539 -0.00595281367095842"
        rpy="0 0 0" />
      <mass
        value="0.00388168562397067" />
      <inertia
        ixx="3.09363335808725E-07"
        ixy="2.71584074616473E-21"
        ixz="-1.22041640499924E-09"
        iyy="5.16127047137718E-07"
        iyz="-5.61869903167138E-23"
        izz="4.87639165330736E-07" />
    </inertial>
    <visual>
      <origin
        xyz="0 0 0"
        rpy="0 0 0" />
      <geometry>
        <mesh
          filename="meshes/L-SC-HIP-PITCH.obj" />
      </geometry>
      <material
        name="">
        <color
          rgba="0.843137254901961 0.815686274509804 0.752941176470588 1" />
      </material>
    </visual>
    <collision>
      <origin
        xyz="0 0 0"
        rpy="0 0 0" />
      <geometry>
        <mesh
          filename="meshes/L-SC-HIP-PITCH.obj" />
      </geometry>
    </collision>
  </link>
  <joint
    name="L-HIP-ROLL"
    type="continuous">
    <origin
      xyz="-0.00525000000000005 0.0287404823292834 0"
      rpy="0 -1.56636539875366 0" />
    <parent
      link="L-SERVO-HIP-ROLL" />
    <child
      link="L-SC-HIP-PITCH" />
    <axis
      xyz="0 1 0" />
    <limit
      lower="-6.28"
      upper="6.28"
      effort="80"
      velocity="15" />
  </joint>
  <link
    name="L-SERVO-HIP-PITCH">
    <inertial>
      <origin
        xyz="-0.000384508525577869 0.0126027788170145 1.32189897916746E-10"
        rpy="0 0 0" />
      <mass
        value="0.00691519229473392" />
      <inertia
        ixx="4.42030050752032E-07"
        ixy="3.31941469136977E-08"
        ixz="-9.74210434773973E-14"
        iyy="4.05343653954984E-07"
        iyz="-8.11370519360995E-15"
        izz="6.84998312743488E-07" />
    </inertial>
    <visual>
      <origin
        xyz="0 0 0"
        rpy="0 0 0" />
      <geometry>
        <mesh
          filename="meshes/L-SERVO-HIP-PITCH.obj" />
      </geometry>
      <material
        name="">
        <color
          rgba="0 0 1 1" />
      </material>
    </visual>
    <collision>
      <origin
        xyz="0 0 0"
        rpy="0 0 0" />
      <geometry>
        <mesh
          filename="meshes/L-SERVO-HIP-PITCH.obj" />
      </geometry>
    </collision>
  </link>
  <joint
    name="L-SERVO-HIP-PITCH"
    type="fixed">
    <origin
      xyz="0.00549999999999979 0.00835951767071465 -0.0108000000000001"
      rpy="1.5707963267949 0 3.14159265358979" />
    <parent
      link="L-SC-HIP-PITCH" />
    <child
      link="L-SERVO-HIP-PITCH" />
    <axis
      xyz="0 0 0" />
  </joint>
  <link
    name="L-LINK-HIP-ANKLE">
    <inertial>
      <origin
        xyz="0.0355000000000348 0.0115000000000004 -4.19941859064465E-14"
        rpy="0 0 0" />
      <mass
        value="0.0128808114115962" />
      <inertia
        ixx="2.7990680763248E-06"
        ixy="3.39392205330507E-21"
        ixz="3.28225267061041E-21"
        iyy="4.16552090795132E-06"
        iyz="-2.06795153138257E-23"
        izz="6.28781585284837E-06" />
    </inertial>
    <visual>
      <origin
        xyz="0 0 0"
        rpy="0 0 0" />
      <geometry>
        <mesh
          filename="meshes/L-LINK-HIP-ANKLE.obj" />
      </geometry>
      <material
        name="">
        <color
          rgba="0.843137254901961 0.815686274509804 0.752941176470588 1" />
      </material>
    </visual>
    <collision>
      <origin
        xyz="0 0 0"
        rpy="0 0 0" />
      <geometry>
        <mesh
          filename="meshes/L-LINK-HIP-ANKLE.obj" />
      </geometry>
    </collision>
  </link>
  <joint
    name="L-HIP-PITCH"
    type="continuous">
    <origin
      xyz="-0.00525000000000002 0 0"
      rpy="3.14159265358979 0.681350509840055 -3.14159265358977" />
    <parent
      link="L-SERVO-HIP-PITCH" />
    <child
      link="L-LINK-HIP-ANKLE" />
    <axis
      xyz="0 1 0" />
    <limit
      lower="-6.28"
      upper="6.28"
      effort="80"
      velocity="15" />
  </joint>
  <link
    name="L-SERVO-ANKLE">
    <inertial>
      <origin
        xyz="0.00486549148013194 0.0126027788102404 9.99806765156208E-11"
        rpy="0 0 0" />
      <mass
        value="0.00691519227454494" />
      <inertia
        ixx="4.42030050605625E-07"
        ixy="3.31941469870011E-08"
        ixz="-9.78211796119115E-14"
        iyy="4.05343653501535E-07"
        iyz="-6.02343662110199E-15"
        izz="6.84998312957783E-07" />
    </inertial>
    <visual>
      <origin
        xyz="0 0 0"
        rpy="0 0 0" />
      <geometry>
        <mesh
          filename="meshes/L-SERVO-ANKLE.obj" />
      </geometry>
      <material
        name="">
        <color
          rgba="0 0 1 1" />
      </material>
    </visual>
    <collision>
      <origin
        xyz="0 0 0"
        rpy="0 0 0" />
      <geometry>
        <mesh
          filename="meshes/L-SERVO-ANKLE.obj" />
      </geometry>
    </collision>
  </link>
  <joint
    name="L-ANKLE-PITCH"
    type="continuous">
    <origin
      xyz="0.0710000000000028 0 0"
      rpy="-3.14159265358979 0.849897180784238 -3.14159265358979" />
    <parent
      link="L-LINK-HIP-ANKLE" />
    <child
      link="L-SERVO-ANKLE" />
    <axis
      xyz="0 1 0" />
    <limit
      lower="-6.28"
      upper="6.28"
      effort="80"
      velocity="15" />
  </joint>
  <link
    name="L-LINK-ANKLE-TIBIA">
    <inertial>
      <origin
        xyz="0.0384999999999938 5.61495294704173E-14 0.0059986871939201"
        rpy="0 0 0" />
      <mass
        value="0.0169515393948695" />
      <inertia
        ixx="1.27646377972887E-06"
        ixy="1.96438851869093E-20"
        ixz="5.97215354975336E-21"
        iyy="1.4737629444282E-05"
        iyz="-4.46677530778635E-22"
        izz="1.46513437096869E-05" />
    </inertial>
    <visual>
      <origin
        xyz="0 0 0"
        rpy="0 0 0" />
      <geometry>
        <mesh
          filename="meshes/L-LINK-ANKLE-TIBIA.obj" />
      </geometry>
      <material
        name="">
        <color
          rgba="0.843137254901961 0.815686274509804 0.752941176470588 1" />
      </material>
    </visual>
    <collision>
      <origin
        xyz="0 0 0"
        rpy="0 0 0" />
      <geometry>
        <mesh
          filename="meshes/L-LINK-ANKLE-TIBIA.obj" />
      </geometry>
    </collision>
  </link>
  <joint
    name="L-LINK-ANKLE-TIBIA"
    type="fixed">
    <origin
      xyz="0.0822500000000028 -0.000999999999999994 0"
      rpy="1.5707963267949 0 3.14159265358979" />
    <parent
      link="L-SERVO-ANKLE" />
    <child
      link="L-LINK-ANKLE-TIBIA" />
    <axis
      xyz="0 0 0" />
  </joint>
  <link
    name="L-SERVO-TIBIA-PITCH">
    <inertial>
      <origin
        xyz="-0.000384508500810704 0.013602778780214 9.33607496866884E-11"
        rpy="0 0 0" />
      <mass
        value="0.00691519224904657" />
      <inertia
        ixx="4.42030048307756E-07"
        ixy="3.31941458533899E-08"
        ixz="-9.80658577461698E-14"
        iyy="4.0534365226486E-07"
        iyz="-5.76211242718809E-15"
        izz="6.84998310489055E-07" />
    </inertial>
    <visual>
      <origin
        xyz="0 0 0"
        rpy="0 0 0" />
      <geometry>
        <mesh
          filename="meshes/L-SERVO-TIBIA-PITCH.obj" />
      </geometry>
      <material
        name="">
        <color
          rgba="0 0 1 1" />
      </material>
    </visual>
    <collision>
      <origin
        xyz="0 0 0"
        rpy="0 0 0" />
      <geometry>
        <mesh
          filename="meshes/L-SERVO-TIBIA-PITCH.obj" />
      </geometry>
    </collision>
  </link>
  <joint
    name="L-SERVO-TIBIA-PITCH"
    type="fixed">
    <origin
      xyz="0 0 0"
      rpy="1.5707963267949 0 0" />
    <parent
      link="L-LINK-ANKLE-TIBIA" />
    <child
      link="L-SERVO-TIBIA-PITCH" />
    <axis
      xyz="0 0 0" />
  </joint>
  <link
    name="L-LINK-TIBIA-FOOT">
    <inertial>
      <origin
        xyz="-0.0364403347223291 0.0174106572682497 1.75109627411074E-05"
        rpy="0 0 0" />
      <mass
        value="0.00862384221571942" />
      <inertia
        ixx="1.56482853918435E-06"
        ixy="-9.25199440592549E-09"
        ixz="2.38005169919555E-09"
        iyy="4.04460133877995E-06"
        iyz="6.61009493684128E-10"
        izz="5.13010743226958E-06" />
    </inertial>
    <visual>
      <origin
        xyz="0 0 0"
        rpy="0 0 0" />
      <geometry>
        <mesh
          filename="meshes/L-LINK-TIBIA-FOOT.obj" />
      </geometry>
      <material
        name="">
        <color
          rgba="0.843137254901961 0.815686274509804 0.752941176470588 1" />
      </material>
    </visual>
    <collision>
      <origin
        xyz="0 0 0"
        rpy="0 0 0" />
      <geometry>
        <mesh
          filename="meshes/L-LINK-TIBIA-FOOT.obj" />
      </geometry>
    </collision>
  </link>
  <joint
    name="L-TIBIA-PITCH"
    type="continuous">
    <origin
      xyz="-0.00525000000000064 0 0"
      rpy="3.14159265358979 -0.90752625863371 -3.14159265358979" />
    <parent
      link="L-SERVO-TIBIA-PITCH" />
    <child
      link="L-LINK-TIBIA-FOOT" />
    <axis
      xyz="0 1 0" />
    <limit
      lower="-6.28"
      upper="6.28"
      effort="80"
      velocity="15" />
  </joint>
  <link
    name="L-SUCTION">
    <inertial>
      <origin
        xyz="-0.000637154589804068 0.0136984199504924 1.04279418433606E-10"
        rpy="0 0 0" />
      <mass
        value="0.00729393815187005" />
      <inertia
        ixx="4.46175853908767E-07"
        ixy="3.31941457115377E-08"
        ixz="-9.76602949862014E-14"
        iyy="4.12017300919133E-07"
        iyz="-6.7333548857405E-15"
        izz="6.89144116012422E-07" />
    </inertial>
    <visual>
      <origin
        xyz="0 0 0"
        rpy="0 0 0" />
      <geometry>
        <mesh
          filename="meshes/L-SUCTION.obj" />
      </geometry>
      <material
        name="">
        <color
          rgba="0 0 1 1" />
      </material>
    </visual>
    <collision>
      <origin
        xyz="0 0 0"
        rpy="0 0 0" />
      <geometry>
        <mesh
          filename="meshes/L-SUCTION.obj" />
      </geometry>
    </collision>
  </link>
  <joint
    name="L-SUCTION"
    type="fixed">
    <origin
      xyz="-0.0327500000000009 -0.00780000000000004 0"
      rpy="-3.14159265358979 0 -3.14159265358979" />
    <parent
      link="L-LINK-TIBIA-FOOT" />
    <child
      link="L-SUCTION" />
    <axis
      xyz="0 0 0" />
  </joint>
  <link
    name="L-SERVO-FOOT-PITCH">
    <inertial>
      <origin
        xyz="0.0048654914987234 0.0126025801899965 1.17862219983778E-10"
        rpy="0 0 0" />
      <mass
        value="0.00691519224494518" />
      <inertia
        ixx="4.42030047610355E-07"
        ixy="3.31941458468641E-08"
        ixz="-9.74158672841823E-14"
        iyy="4.05343652308659E-07"
        iyz="-7.22846056823043E-15"
        izz="6.84998310024146E-07" />
    </inertial>
    <visual>
      <origin
        xyz="0 0 0"
        rpy="0 0 0" />
      <geometry>
        <mesh
          filename="meshes/L-SERVO-FOOT-PITCH.obj" />
      </geometry>
      <material
        name="">
        <color
          rgba="0 0 1 1" />
      </material>
    </visual>
    <collision>
      <origin
        xyz="0 0 0"
        rpy="0 0 0" />
      <geometry>
        <mesh
          filename="meshes/L-SERVO-FOOT-PITCH.obj" />
      </geometry>
    </collision>
  </link>
  <joint
    name="L-FOOT-PITCH"
    type="continuous">
    <origin
      xyz="-0.0710000000000005 0.00100019858208518 0"
      rpy="-3.14159265358979 0.434718628423193 -3.14159265358979" />
    <parent
      link="L-LINK-TIBIA-FOOT" />
    <child
      link="L-SERVO-FOOT-PITCH" />
    <axis
      xyz="0 1 0" />
    <limit
      lower="-6.28"
      upper="6.28"
      effort="80"
      velocity="15" />
  </joint>
  <link
    name="L-SC-FOOT-PITCH">
    <inertial>
      <origin
        xyz="-0.00639750120468131 3.31084715199381E-10 0.0117823558977973"
        rpy="0 0 0" />
      <mass
        value="0.00307410332929773" />
      <inertia
        ixx="1.086559058003E-07"
        ixy="-1.62039105015099E-14"
        ixz="1.20338482547612E-09"
        iyy="5.74904925278161E-07"
        iyz="8.71497681376224E-17"
        izz="6.4137098841965E-07" />
    </inertial>
    <visual>
      <origin
        xyz="0 0 0"
        rpy="0 0 0" />
      <geometry>
        <mesh
          filename="meshes/L-SC-FOOT-PITCH.obj" />
      </geometry>
      <material
        name="">
        <color
          rgba="0.792156862745098 0.819607843137255 0.933333333333333 1" />
      </material>
    </visual>
    <collision>
      <origin
        xyz="0 0 0"
        rpy="0 0 0" />
      <geometry>
        <mesh
          filename="meshes/L-SC-FOOT-PITCH.obj" />
      </geometry>
    </collision>
  </link>
  <joint
    name="L-SC-FOOT-PITCH"
    type="fixed">
    <origin
      xyz="0.00525000000000003 0.0104998014179148 0"
      rpy="1.5707963267949 0 -3.14159265358979" />
    <parent
      link="L-SERVO-FOOT-PITCH" />
    <child
      link="L-SC-FOOT-PITCH" />
    <axis
      xyz="0 0 0" />
  </joint>
  <link
    name="L-SC2-FOOT-PITCH">
    <inertial>
      <origin
        xyz="-0.00575567248427487 0 0.00593861362285799"
        rpy="0 0 0" />
      <mass
        value="0.00563001173416682" />
      <inertia
        ixx="4.10832626497923E-07"
        ixy="6.61744490042422E-23"
        ixz="9.16102996573999E-09"
        iyy="9.89611620976254E-07"
        iyz="-2.15583947146633E-22"
        izz="9.41329800063614E-07" />
    </inertial>
    <visual>
      <origin
        xyz="0 0 0"
        rpy="0 0 0" />
      <geometry>
        <mesh
          filename="meshes/L-SC2-FOOT-PITCH.obj" />
      </geometry>
      <material
        name="">
        <color
          rgba="0.843137254901961 0.815686274509804 0.752941176470588 1" />
      </material>
    </visual>
    <collision>
      <origin
        xyz="0 0 0"
        rpy="0 0 0" />
      <geometry>
        <mesh
          filename="meshes/L-SC2-FOOT-PITCH.obj" />
      </geometry>
    </collision>
  </link>
  <joint
    name="L-SC2-FOOT-PITCH"
    type="fixed">
    <origin
      xyz="0.00525000000002024 -0.00100019858208486 0"
      rpy="1.5707963267949 0 -3.14159265358979" />
    <parent
      link="L-SERVO-FOOT-PITCH" />
    <child
      link="L-SC2-FOOT-PITCH" />
    <axis
      xyz="0 0 0" />
  </joint>
  <link
    name="L-SERVO-FOOT-ROLL">
    <inertial>
      <origin
        xyz="0.00486549045576727 -0.0100675053863047 1.41717304558142E-10"
        rpy="0 0 0" />
      <mass
        value="0.00691519437134214" />
      <inertia
        ixx="4.42030126000761E-07"
        ixy="3.31941841202142E-08"
        ixz="-1.0781450882863E-13"
        iyy="4.05343729718E-07"
        iyz="-1.03364889038298E-14"
        izz="6.84998376851316E-07" />
    </inertial>
    <visual>
      <origin
        xyz="0 0 0"
        rpy="0 0 0" />
      <geometry>
        <mesh
          filename="meshes/L-SERVO-FOOT-ROLL.obj" />
      </geometry>
      <material
        name="">
        <color
          rgba="0 0 1 1" />
      </material>
    </visual>
    <collision>
      <origin
        xyz="0 0 0"
        rpy="0 0 0" />
      <geometry>
        <mesh
          filename="meshes/L-SERVO-FOOT-ROLL.obj" />
      </geometry>
    </collision>
  </link>
  <joint
    name="L-FOOT-ROLL"
    type="continuous">
    <origin
      xyz="-0.02838 0 0.0065"
      rpy="-3.1416 -1.5675 1.5708" />
    <parent
      link="L-SC2-FOOT-PITCH" />
    <child
      link="L-SERVO-FOOT-ROLL" />
    <axis
      xyz="0 1 0" />
    <limit
      lower="-6.28"
      upper="6.28"
      effort="80"
      velocity="15" />
  </joint>
  <link
    name="L-FOOT">
    <inertial>
      <origin
        xyz="-1.95958453468731E-05 -0.00444181247418957 0.00135270420107354"
        rpy="0 0 0" />
      <mass
        value="0.00920518287932566" />
      <inertia
        ixx="1.05680977304839E-06"
        ixy="7.90522173075187E-10"
        ixz="-4.19163906498017E-10"
        iyy="1.27882439310531E-06"
        iyz="4.00295480729578E-08"
        izz="1.03165986894221E-06" />
    </inertial>
    <visual>
      <origin
        xyz="0 0 0"
        rpy="0 0 0" />
      <geometry>
        <mesh
          filename="meshes/L-FOOT.obj" />
      </geometry>
      <material
        name="">
        <color
          rgba="0.858823529411765 0.858823529411765 0.858823529411765 0.1" />
      </material>
    </visual>
    <collision>
      <origin
        xyz="0 0 0"
        rpy="0 0 0" />
      <geometry>
        <mesh
          filename="meshes/L-FOOT.obj" />
      </geometry>
    </collision>
  </link>
  <joint
    name="L-FOOT"
    type="fixed">
    <origin
      xyz="0.00525000000000003 -0.0236702854642496 0"
      rpy="1.57079632678999 0 3.14159265358979" />
    <parent
      link="L-SERVO-FOOT-ROLL" />
    <child
      link="L-FOOT" />
    <axis
      xyz="0 0 0" />
  </joint>
  <link
    name="L-SUCTIONCUP">
    <inertial>
      <origin
        xyz="1.66533453693773E-16 1.90266664923389E-09 0.000499999999938827"
        rpy="0 0 0" />
      <mass
        value="0.000547101592653589" />
      <inertia
        ixx="3.78528310393958E-08"
        ixy="-7.56570363919544E-23"
        ixz="-9.42533533912962E-24"
        iyy="1.64561539339865E-08"
        iyz="1.43694970395145E-13"
        izz="5.4217801373513E-08" />
    </inertial>
    <visual>
      <origin
        xyz="0 0 0"
        rpy="0 0 0" />
      <geometry>
        <mesh
          filename="meshes/L-SUCTIONCUP.obj" />
      </geometry>
      <material
        name="">
        <color
          rgba="0.792156862745098 0.819607843137255 0.933333333333333 1" />
      </material>
    </visual>
    <collision>
      <origin
        xyz="0 0 0"
        rpy="0 0 0" />
      <geometry>
        <mesh
          filename="meshes/L-SUCTIONCUP.obj" />
      </geometry>
    </collision>
  </link>
  <joint
    name="L-SUCTIONCUP"
    type="fixed">
    <origin
      xyz="0 -0.0116636317566972 -0.0045457568971396"
      rpy="1.06027104479611 0 -3.14159265094917" />
    <parent
      link="L-FOOT" />
    <child
      link="L-SUCTIONCUP" />
    <axis
      xyz="0 0 0" />
  </joint>
</robot>
